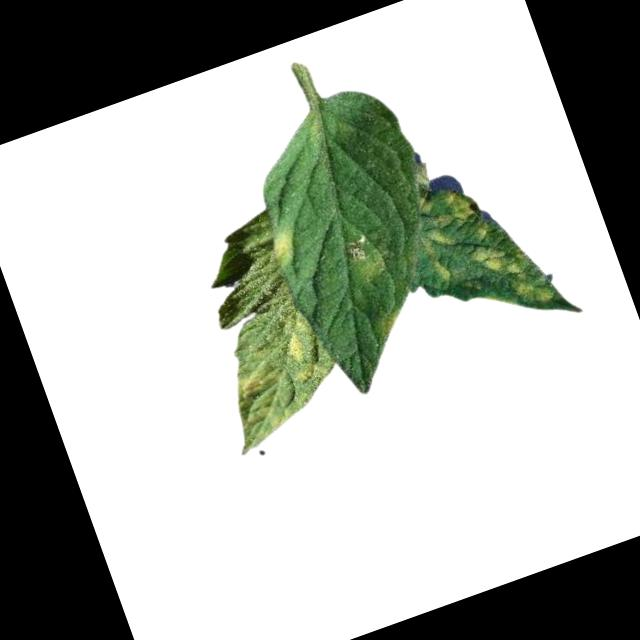Leaf_Mold: (221, 361, 302, 451), (276, 309, 331, 386), (417, 223, 466, 287), (470, 234, 525, 284), (266, 226, 309, 270), (511, 272, 556, 311), (441, 182, 480, 227)
